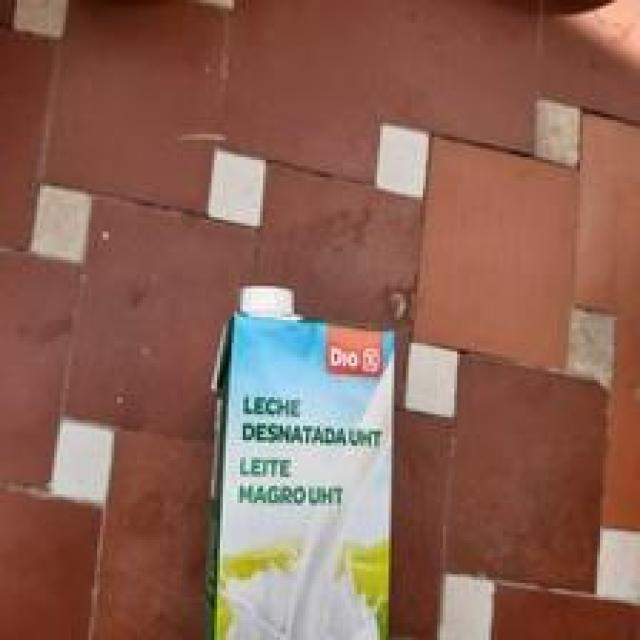Carton: (207, 305, 401, 640)
